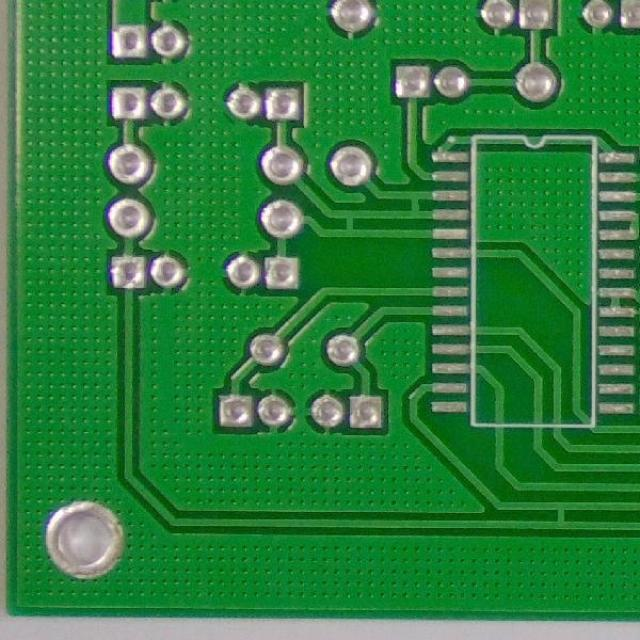short: (330, 209, 371, 248), (541, 498, 581, 536), (401, 188, 432, 221), (621, 418, 639, 459)
